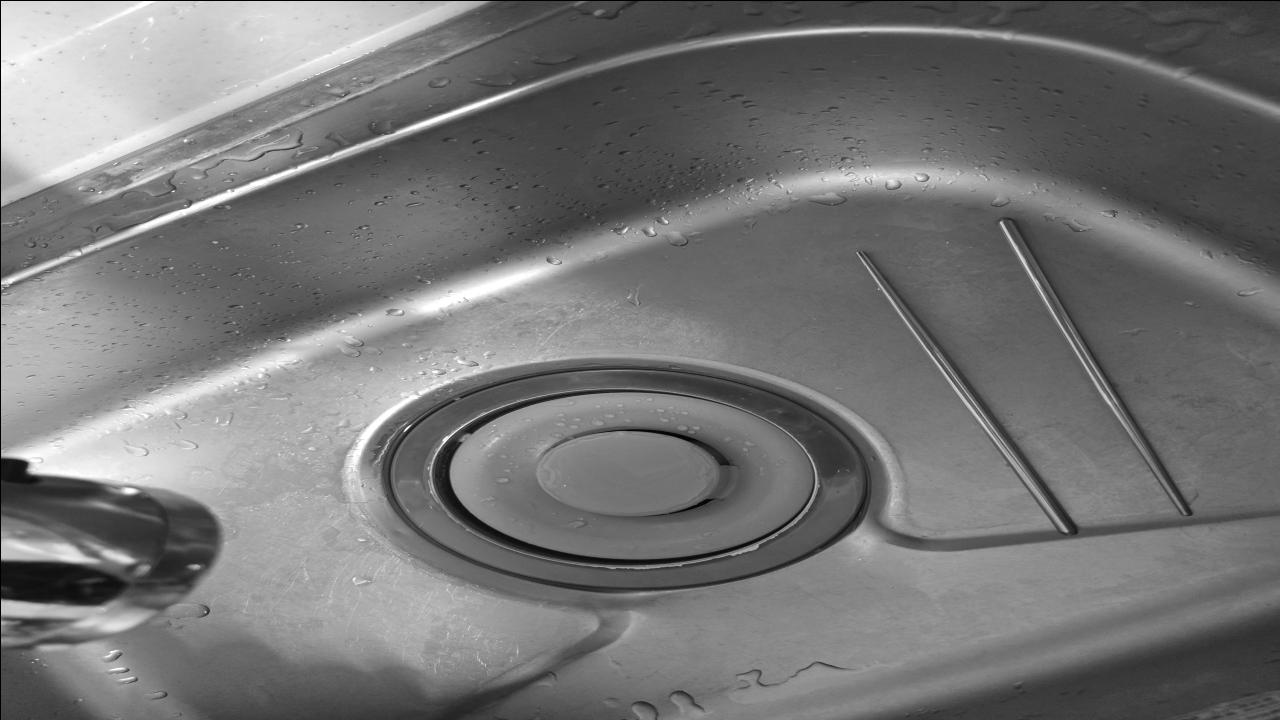chopstick: (854, 251, 1076, 536), (993, 216, 1192, 516)
